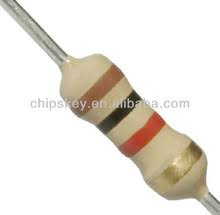resistor: (42, 28, 216, 215)
